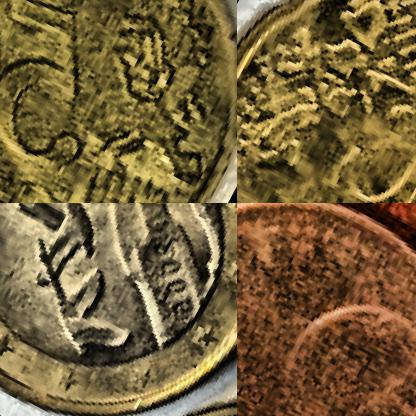coin: (0, 203, 236, 415), (0, 0, 236, 202), (237, 203, 415, 415), (237, 0, 415, 202)
